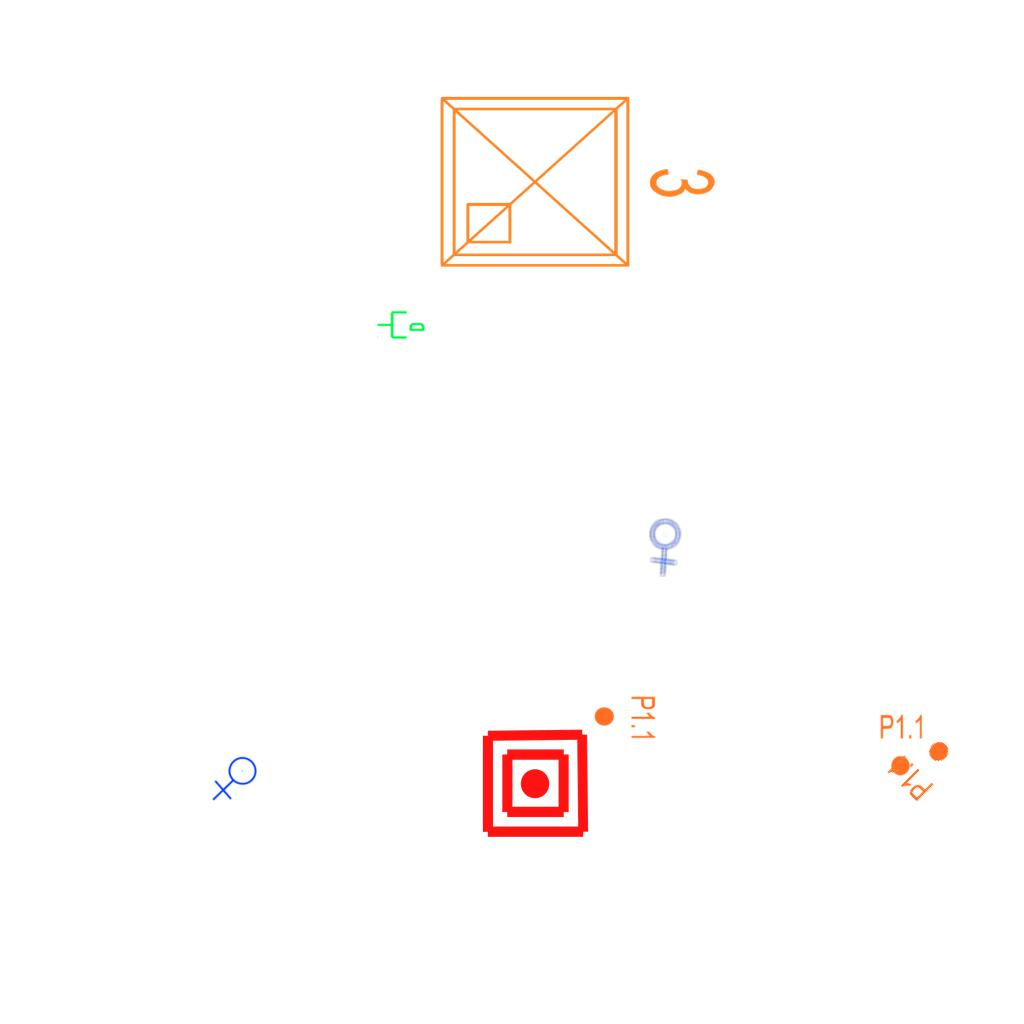Datenanschluss_einfach: (376, 307, 426, 341)
Downlight_LED_Einbauleuchten_Flur: (884, 726, 962, 804), (879, 713, 925, 777), (593, 695, 657, 741)
Einbaudownlights_LED_Konferenzraeume: (426, 74, 726, 282)
Elektroanschluss_allgemein_230V_Geraeteanschlussdose_230V: (632, 510, 701, 579), (212, 756, 261, 803)
NAM-Nichtautomatischer_Melder: (479, 727, 592, 840)
